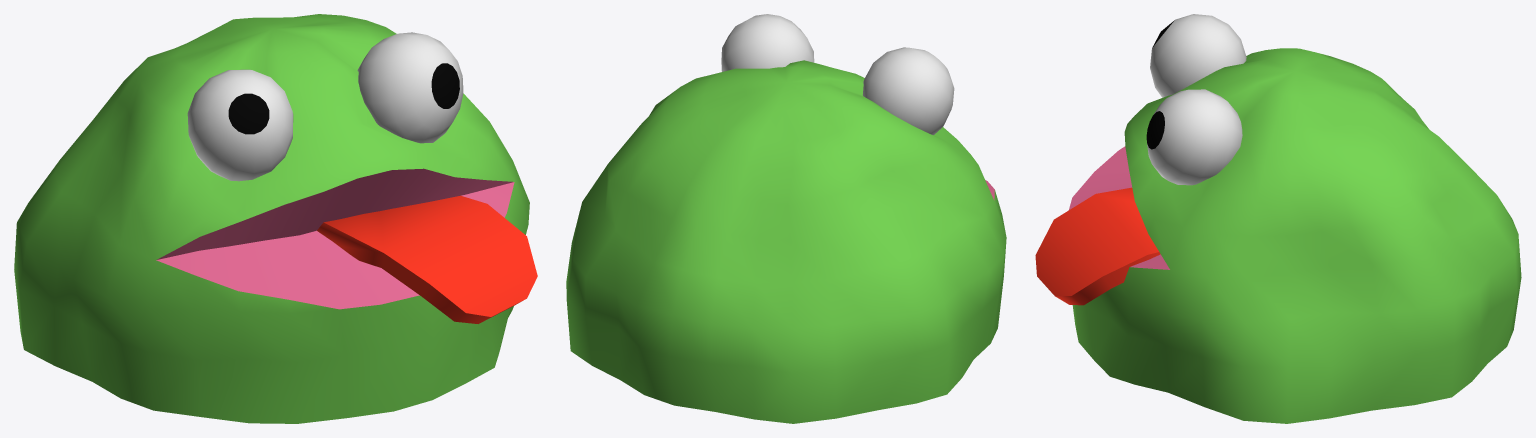
The model's file is cake.fbx.
3 views of the same model, side by side, from view 1: azimuth 30°, elevation 25°; view 2: azimuth 150°, elevation 25°; view 3: azimuth 270°, elevation 25° (orthographic). The views are drawn at different scales.
Parts seen in each view (by area): view 1: Cylinder.027; view 2: Cylinder.027; view 3: Cylinder.027.
Part boxes in pixels (bbox=[...]): Cylinder.027: bbox=[14, 14, 537, 423]; Cylinder.027: bbox=[566, 14, 1006, 423]; Cylinder.027: bbox=[1035, 14, 1521, 423].
Size of the model in its own units: 36.55 by 23.86 by 38.92.
